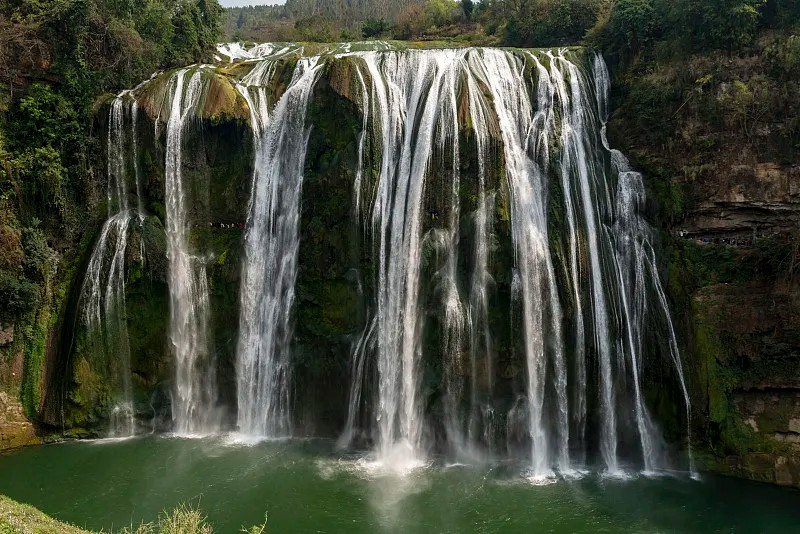Huangguoshu: (82, 41, 689, 471)
